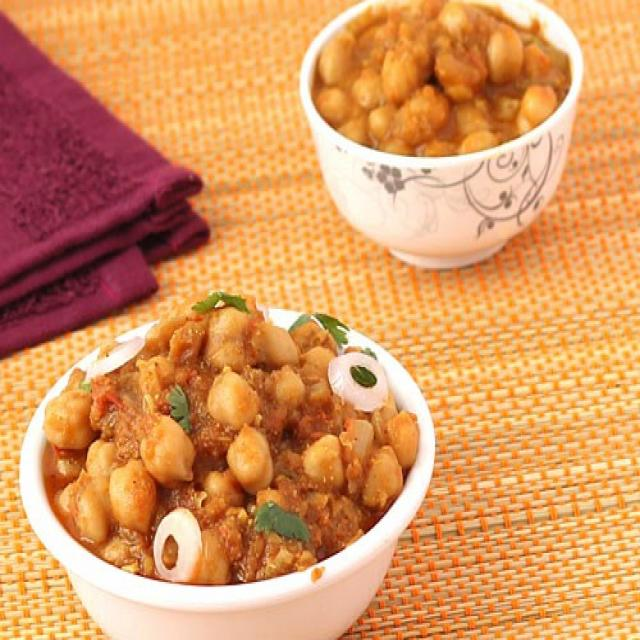Chole: (46, 294, 420, 586), (312, 0, 574, 156)
